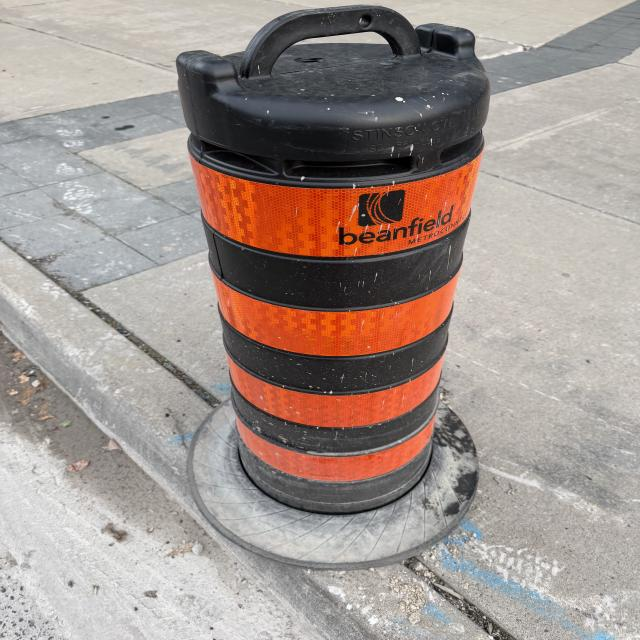Teraffic Barrel: (177, 5, 489, 514)
